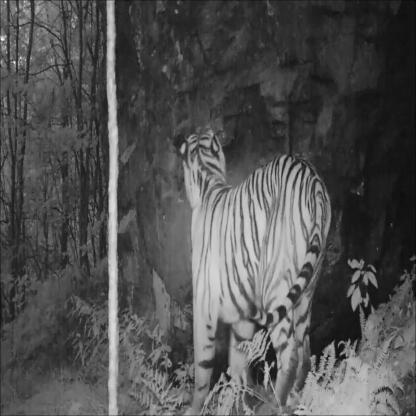Tiger: (176, 120, 338, 410)
